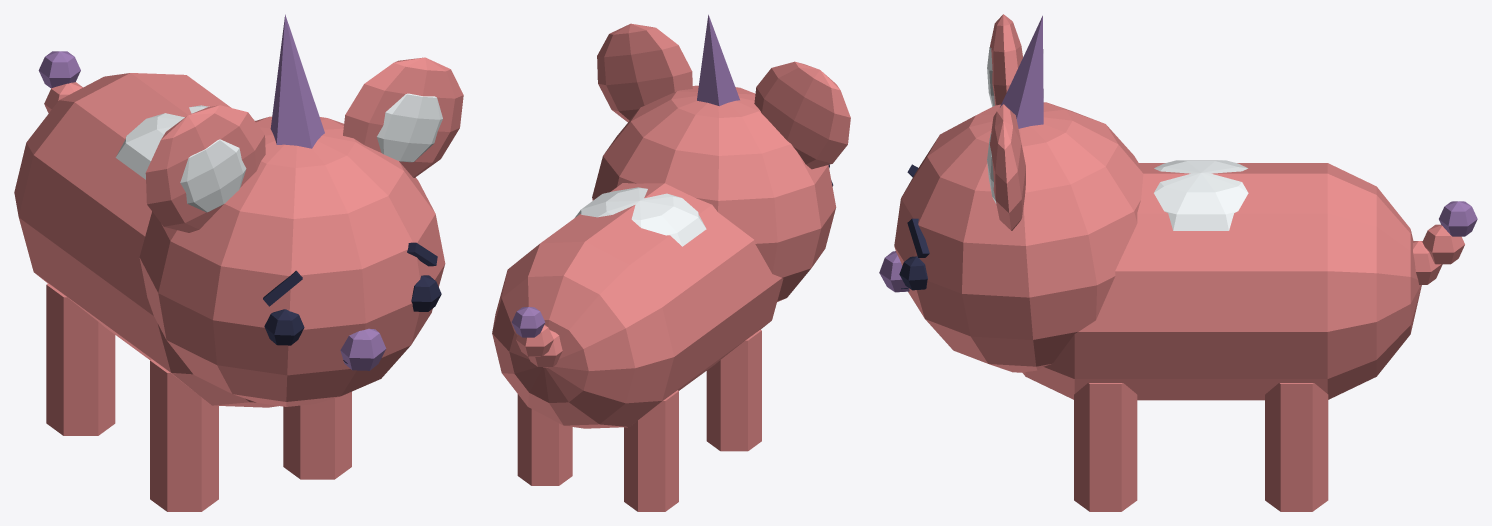
The model's file is bean-space-2.glb.
The picture shows the model from 3 angles, left to right: view 1: azimuth 30°, elevation 25°; view 2: azimuth 150°, elevation 25°; view 3: azimuth 270°, elevation 25°; orthographic projection. The views are drawn at different scales.
Visible parts, largest first — view 1: bean-space-2; view 2: bean-space-2; view 3: bean-space-2.
Part boxes in pixels (x1,y1,x2,y2): bean-space-2: (14,14,463,511); bean-space-2: (492,14,850,511); bean-space-2: (879,14,1477,511).
Size of the model in its own units: 0.4714 by 0.7 by 0.8339.
